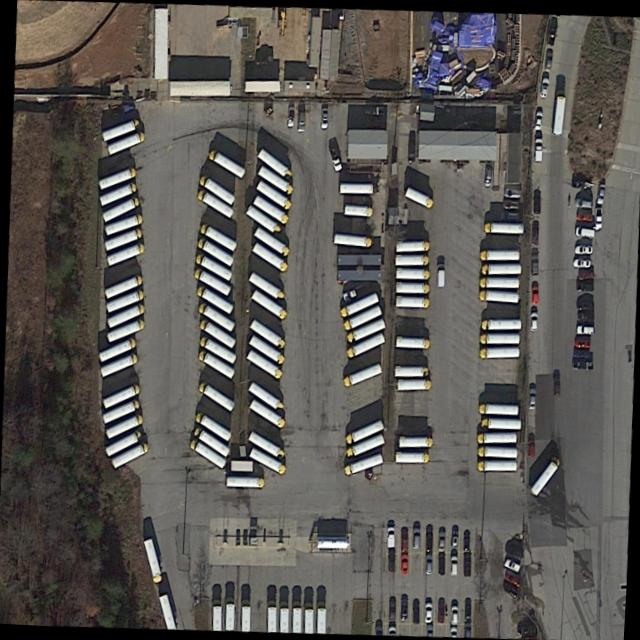large-vehicle: (196, 380, 235, 412), (192, 265, 231, 297), (195, 301, 235, 332), (252, 225, 290, 257), (192, 425, 230, 457), (245, 270, 284, 301), (248, 317, 285, 349), (250, 289, 288, 320), (208, 148, 246, 179), (198, 222, 237, 252), (246, 382, 285, 412), (529, 457, 559, 496), (256, 147, 291, 180), (257, 164, 294, 195), (251, 193, 288, 224), (198, 174, 235, 205), (196, 349, 234, 379), (198, 334, 236, 364), (195, 284, 233, 314), (344, 331, 384, 359), (341, 305, 381, 333), (100, 382, 140, 410), (251, 242, 287, 273), (248, 334, 284, 365), (245, 349, 282, 379), (189, 438, 226, 468), (246, 431, 284, 460), (141, 535, 163, 585), (245, 204, 280, 235), (343, 418, 383, 445), (345, 318, 385, 345), (255, 179, 291, 209), (197, 188, 233, 218), (102, 273, 142, 300), (199, 318, 235, 348), (194, 411, 231, 440), (100, 116, 141, 142), (101, 195, 139, 223), (103, 430, 141, 458), (109, 442, 148, 469), (197, 237, 233, 266), (344, 432, 384, 458), (341, 362, 382, 387), (104, 301, 143, 327), (248, 399, 284, 427), (105, 131, 145, 156), (195, 253, 232, 280), (342, 452, 383, 476), (105, 241, 144, 266), (249, 448, 285, 475), (98, 352, 136, 377), (105, 318, 143, 343), (100, 399, 138, 424), (338, 293, 377, 317), (96, 337, 135, 361), (104, 414, 141, 439), (104, 289, 144, 312), (98, 181, 136, 205), (97, 166, 135, 190), (102, 213, 142, 235), (102, 227, 141, 249), (403, 185, 434, 208), (552, 90, 565, 135), (477, 403, 518, 417), (476, 445, 517, 458), (333, 233, 370, 247), (479, 290, 518, 303), (480, 418, 520, 430), (480, 347, 518, 359), (477, 432, 517, 443), (480, 319, 520, 330), (479, 277, 518, 288), (484, 222, 523, 233), (224, 477, 263, 488), (392, 365, 427, 377), (480, 249, 518, 260), (480, 265, 520, 275), (477, 459, 516, 469), (480, 333, 519, 343), (394, 240, 428, 251), (396, 379, 430, 390), (394, 296, 428, 307), (395, 337, 428, 348), (394, 255, 426, 266), (393, 452, 428, 462), (397, 436, 431, 446), (343, 204, 371, 216), (395, 282, 427, 292), (395, 269, 428, 278)
small-vehicle: (327, 146, 342, 172), (502, 557, 522, 574), (503, 570, 522, 587), (545, 22, 558, 46), (500, 581, 517, 599), (340, 285, 358, 301), (515, 622, 535, 636), (481, 164, 493, 187), (498, 210, 523, 221), (574, 224, 595, 237), (542, 47, 553, 71), (574, 324, 596, 336), (399, 598, 409, 624), (423, 554, 434, 576), (595, 182, 606, 204), (435, 262, 444, 288), (533, 136, 542, 162), (296, 111, 306, 134), (461, 555, 471, 578), (572, 360, 595, 370), (411, 602, 421, 624), (285, 106, 295, 128), (319, 106, 328, 130), (528, 308, 537, 332), (530, 222, 539, 246), (539, 75, 548, 99), (386, 525, 395, 549), (574, 197, 592, 209), (530, 253, 539, 276), (387, 598, 396, 621), (449, 555, 458, 578), (532, 189, 540, 214), (572, 348, 592, 358), (436, 554, 445, 576), (593, 206, 602, 228), (573, 337, 591, 348), (449, 602, 457, 626), (407, 139, 415, 163), (572, 258, 591, 268), (573, 244, 592, 254), (502, 198, 519, 209), (528, 387, 536, 410), (412, 527, 420, 550), (424, 600, 432, 623), (436, 601, 444, 624), (533, 109, 542, 129), (502, 188, 520, 198), (574, 211, 592, 221), (575, 299, 593, 309), (576, 311, 592, 322), (576, 282, 594, 291), (463, 599, 470, 622), (578, 269, 594, 279), (425, 531, 432, 553), (400, 530, 407, 552), (552, 378, 561, 395), (437, 530, 444, 551), (531, 284, 538, 305), (388, 550, 395, 571), (527, 440, 535, 458), (462, 531, 469, 551), (400, 553, 407, 573), (450, 530, 457, 548)
